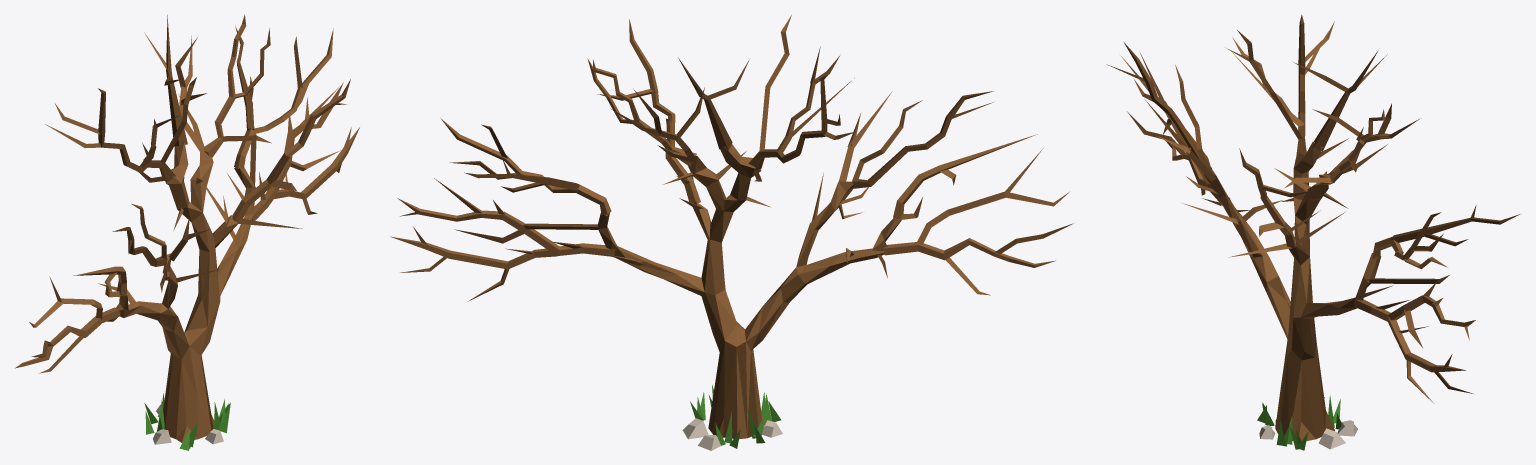
The model's file is jacaranda_3_bare.glb.
The picture shows the model from 3 angles, left to right: view 1: azimuth 30°, elevation 25°; view 2: azimuth 150°, elevation 25°; view 3: azimuth 270°, elevation 25°; orthographic projection. The views are drawn at different scales.
Visible parts, largest first — view 1: jacaranda_3_bare; view 2: jacaranda_3_bare; view 3: jacaranda_3_bare.
Part boxes in pixels (box(x1,y1,x2,y2)): jacaranda_3_bare: box(15, 14, 359, 450); jacaranda_3_bare: box(390, 15, 1073, 450); jacaranda_3_bare: box(1106, 14, 1520, 450).
Bounding box in the file's own units: 8.27 × 6.14 × 5.9.
